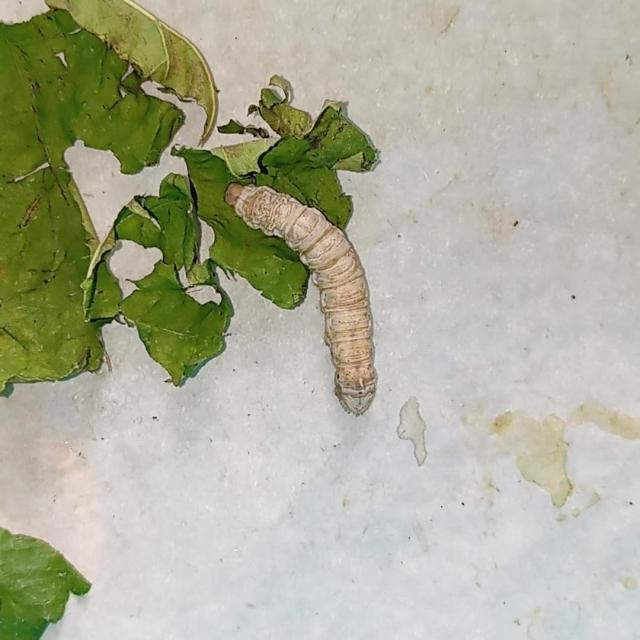Grasserie: (214, 161, 406, 423)
